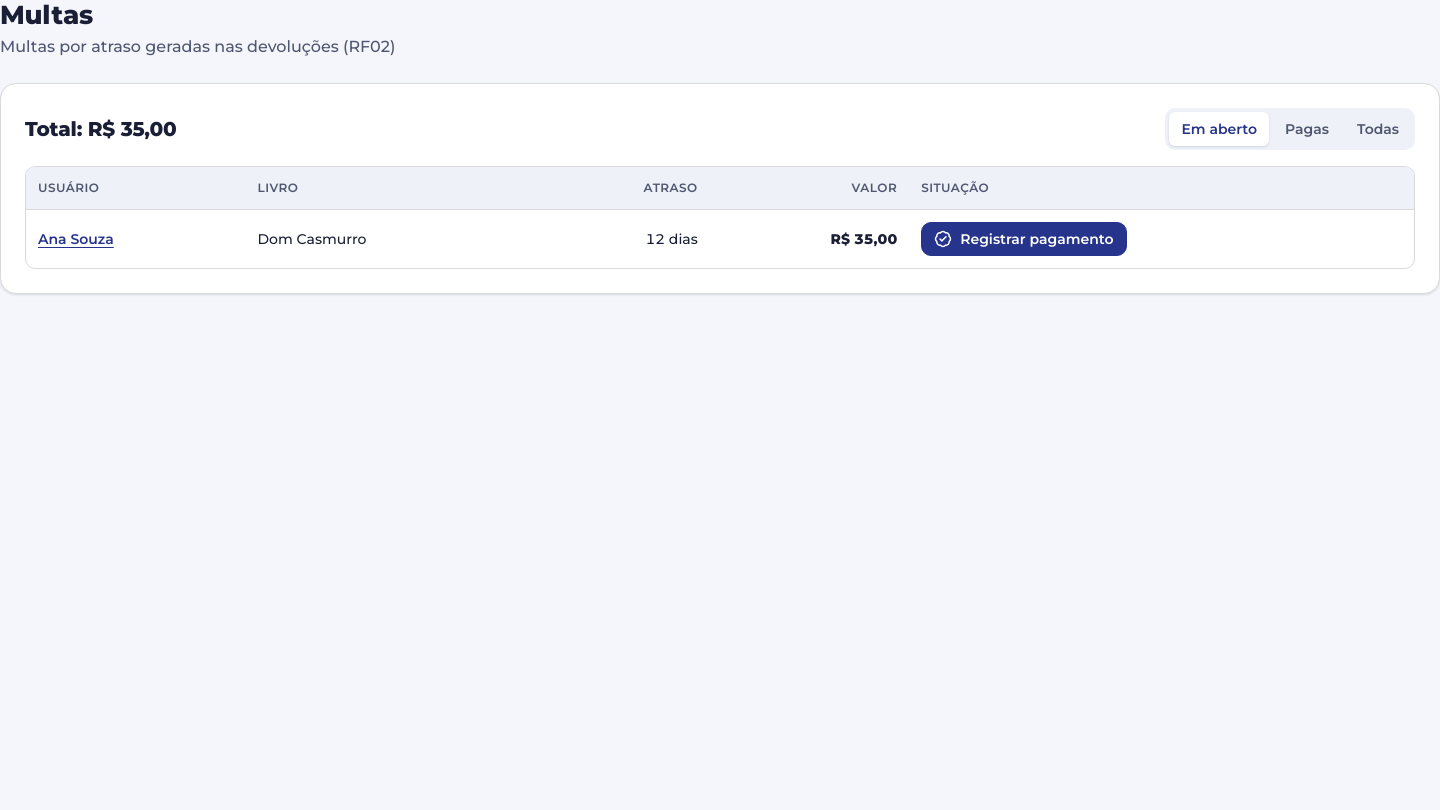
Test: UI — páginas › UI24 — lista de multas permite registrar pagamento
What coordinates should you click on to do the following:
click the button "Registrar pagamento"
I would click on:
 (1024, 239)
Its box is 921,222 -> 1127,256.
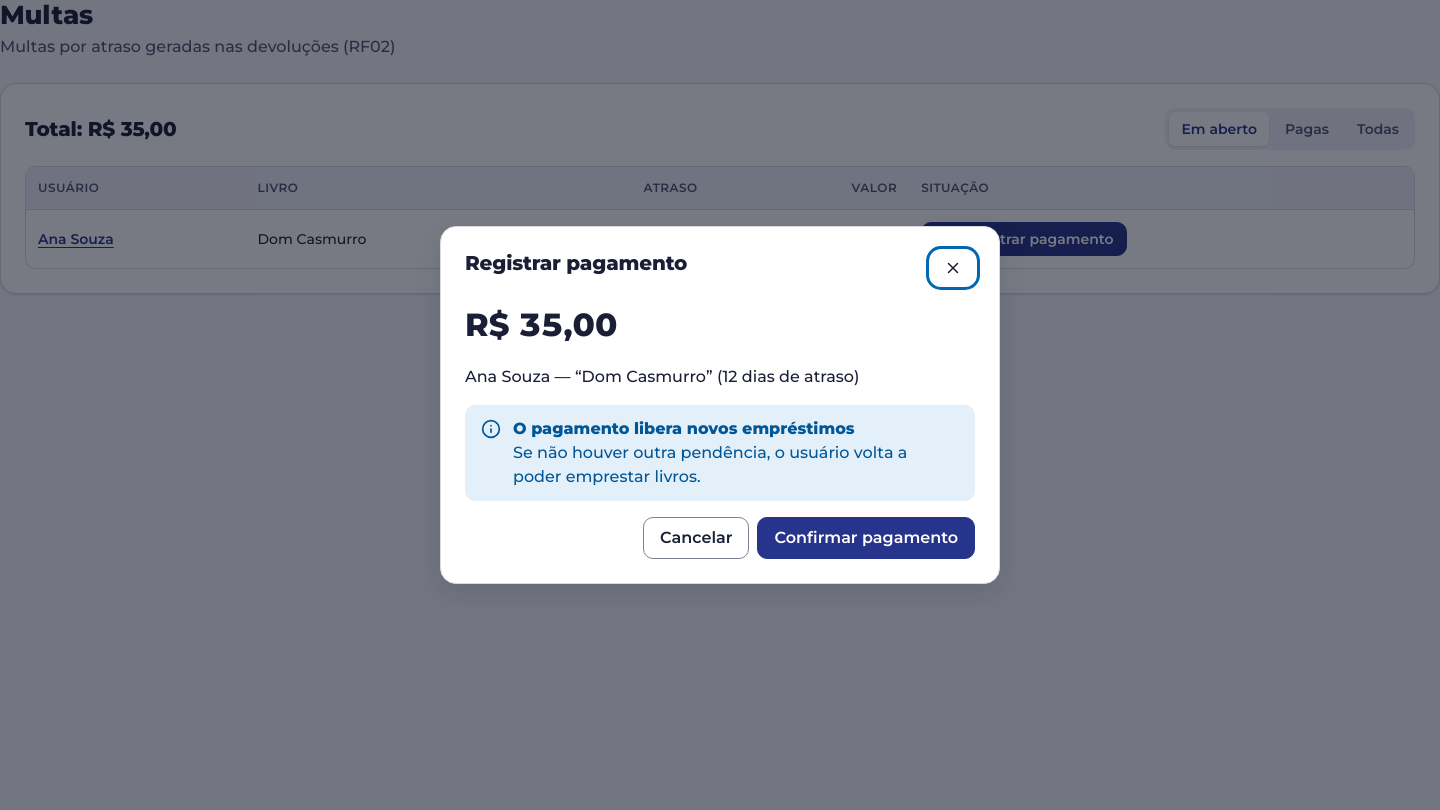
What coordinates should you click on to do the following:
click the button "Confirmar pagamento"
I would click on:
 (866, 538)
Its box is 758,517 -> 975,559.
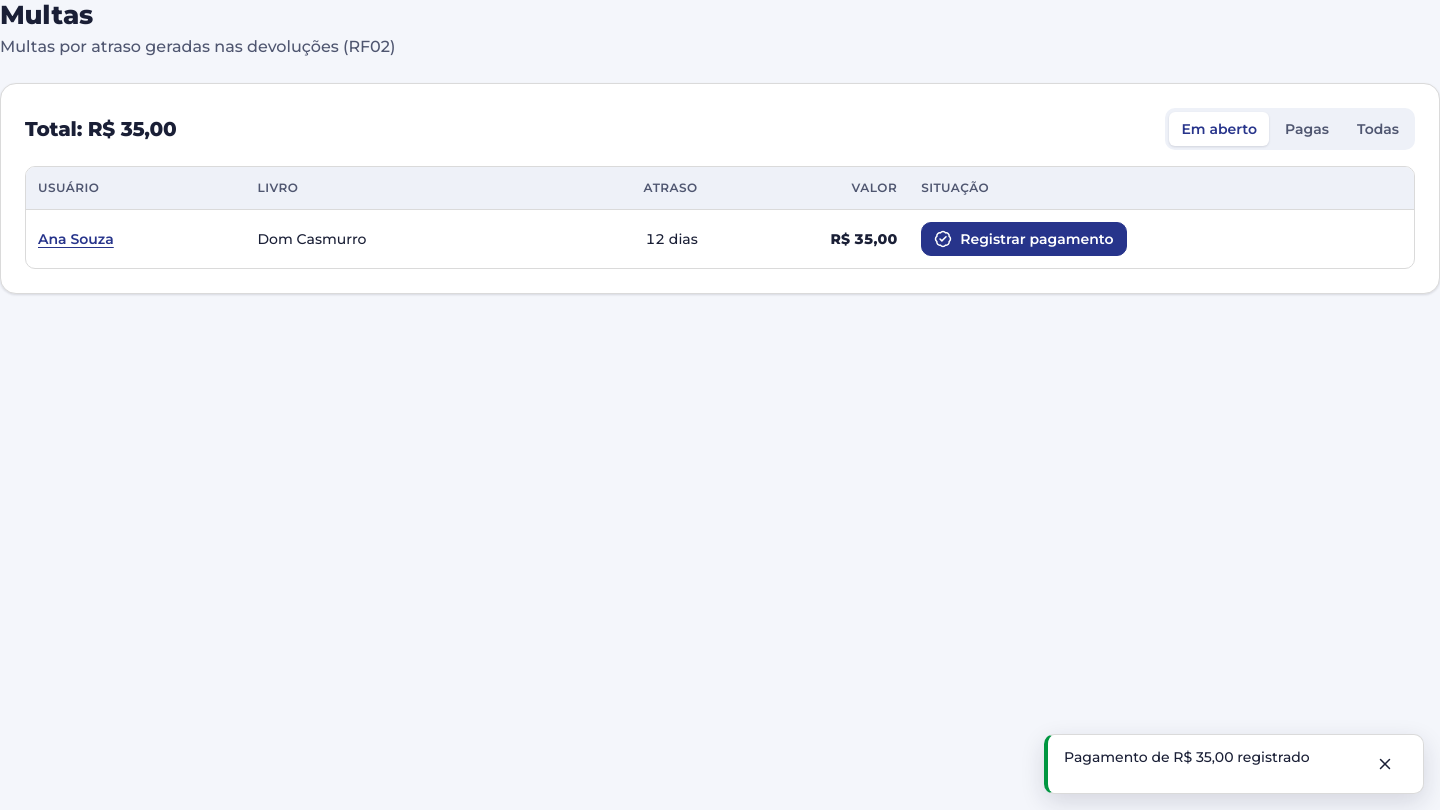
expect the text "Pagamento de R$ 35,00 registrado" is shown: met, box 1064,747 -> 1351,768
